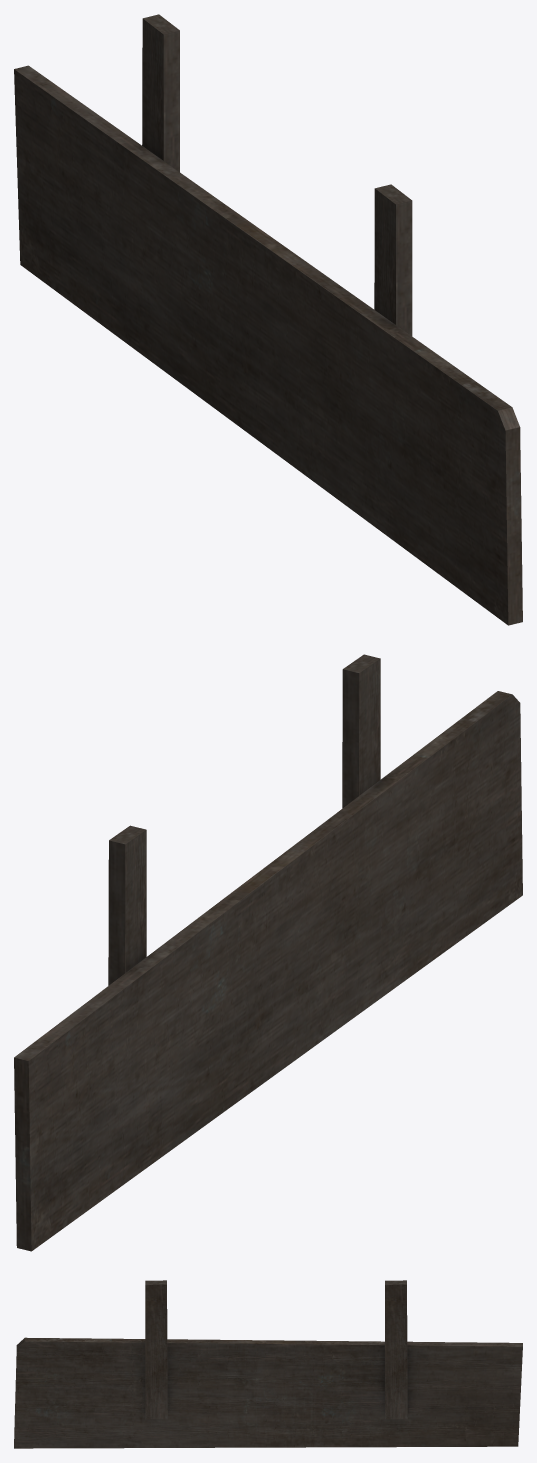
Rendered from SM_signboard_03.fbx.
3 views of the same model, one above another, from view 1: azimuth 30°, elevation 25°; view 2: azimuth 150°, elevation 25°; view 3: azimuth 270°, elevation 25° (orthographic). The views are drawn at different scales.
Visible parts, largest first — view 1: SM_signboard_03_LOD0; view 2: SM_signboard_03_LOD0; view 3: SM_signboard_03_LOD0.
Boxes of the visible parts, x1,y1,x2,y2 form: SM_signboard_03_LOD0: (14,14,522,625); SM_signboard_03_LOD0: (14,654,522,1251); SM_signboard_03_LOD0: (14,1280,522,1448).
Bounding box in the file's own units: 6.5 × 169 × 61.73.
Materials: 1 (1 with a texture image).
